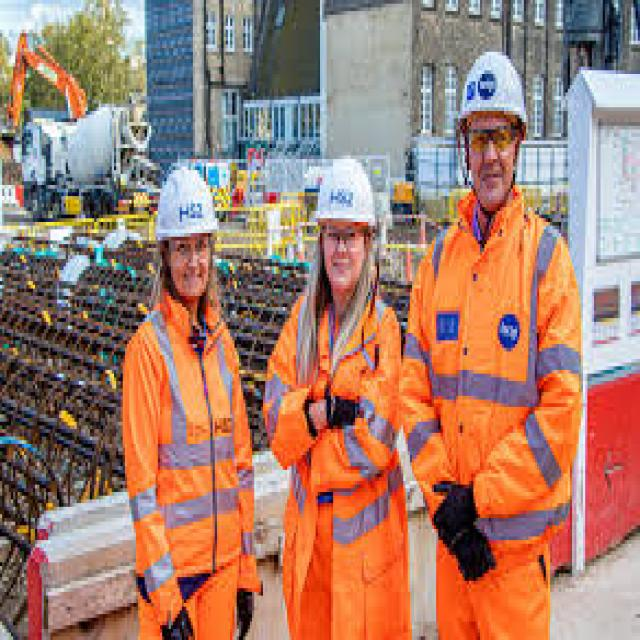Reflective-Jacket: (412, 196, 579, 566), (123, 296, 256, 618), (267, 289, 408, 588)
Safety-Helmet: (454, 37, 530, 129), (149, 155, 224, 248), (309, 144, 379, 233)
